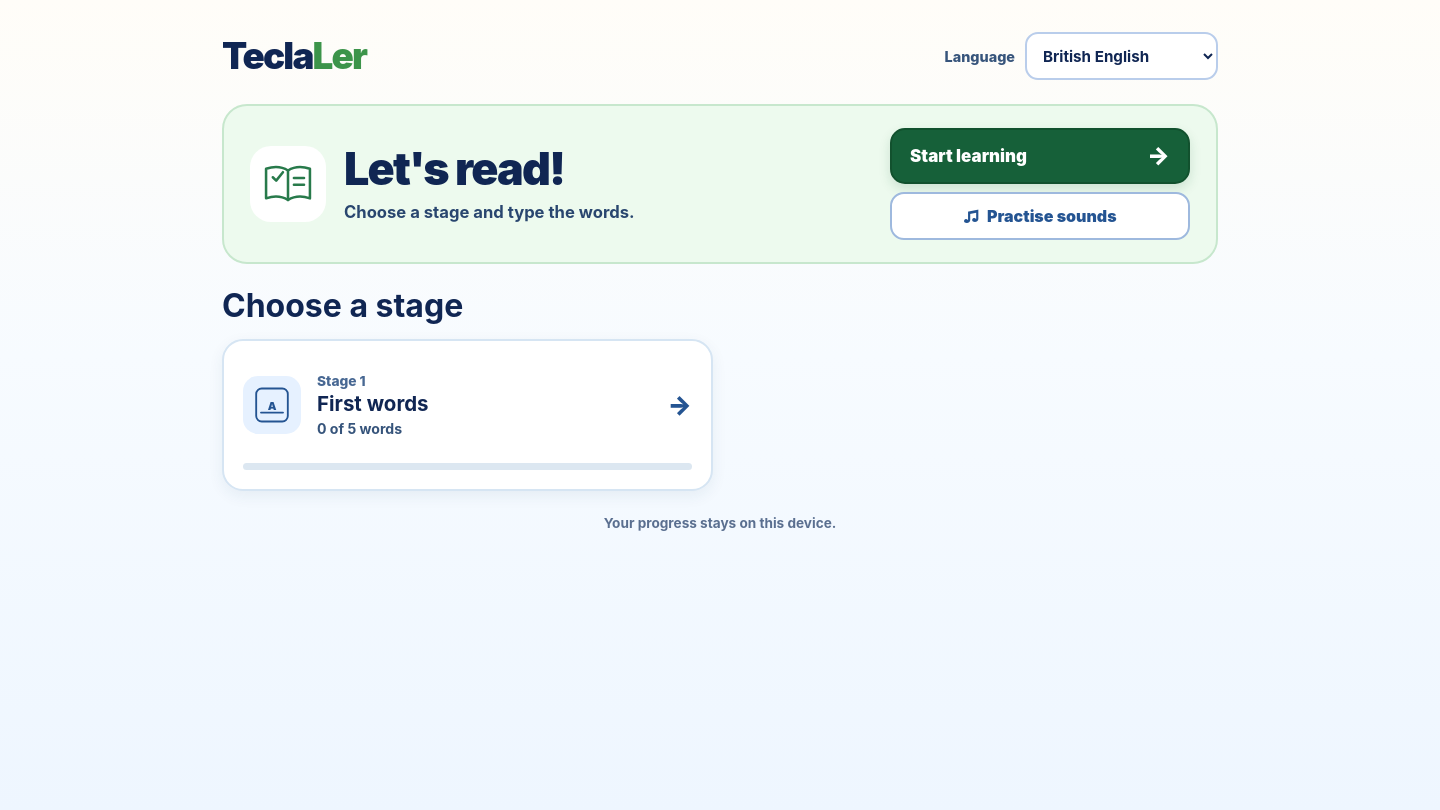
Scenario: dedicated phonics practice › also opens English one-part practice with English recordings
The width and height of the screenshot is (1440, 810).
Step 1. Click the button "♫ Practise sounds" → (1040, 216), box [890, 192, 1190, 240]
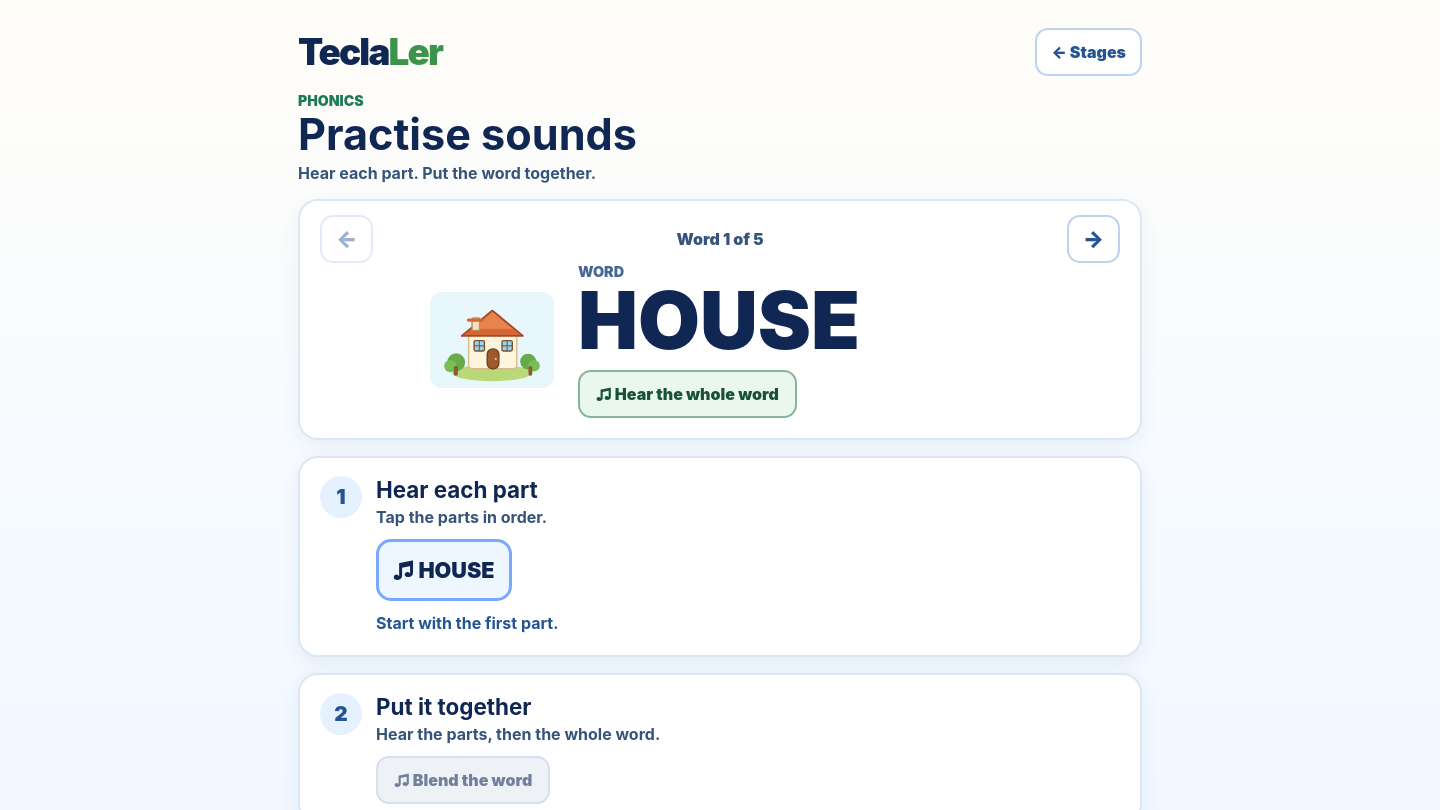
Result: the text named "Target word HOUSE" is shown at [578, 280, 860, 360]
Step 2. Click the button with aria-label "Hear part 1: house" → (444, 570), box [376, 538, 512, 600]
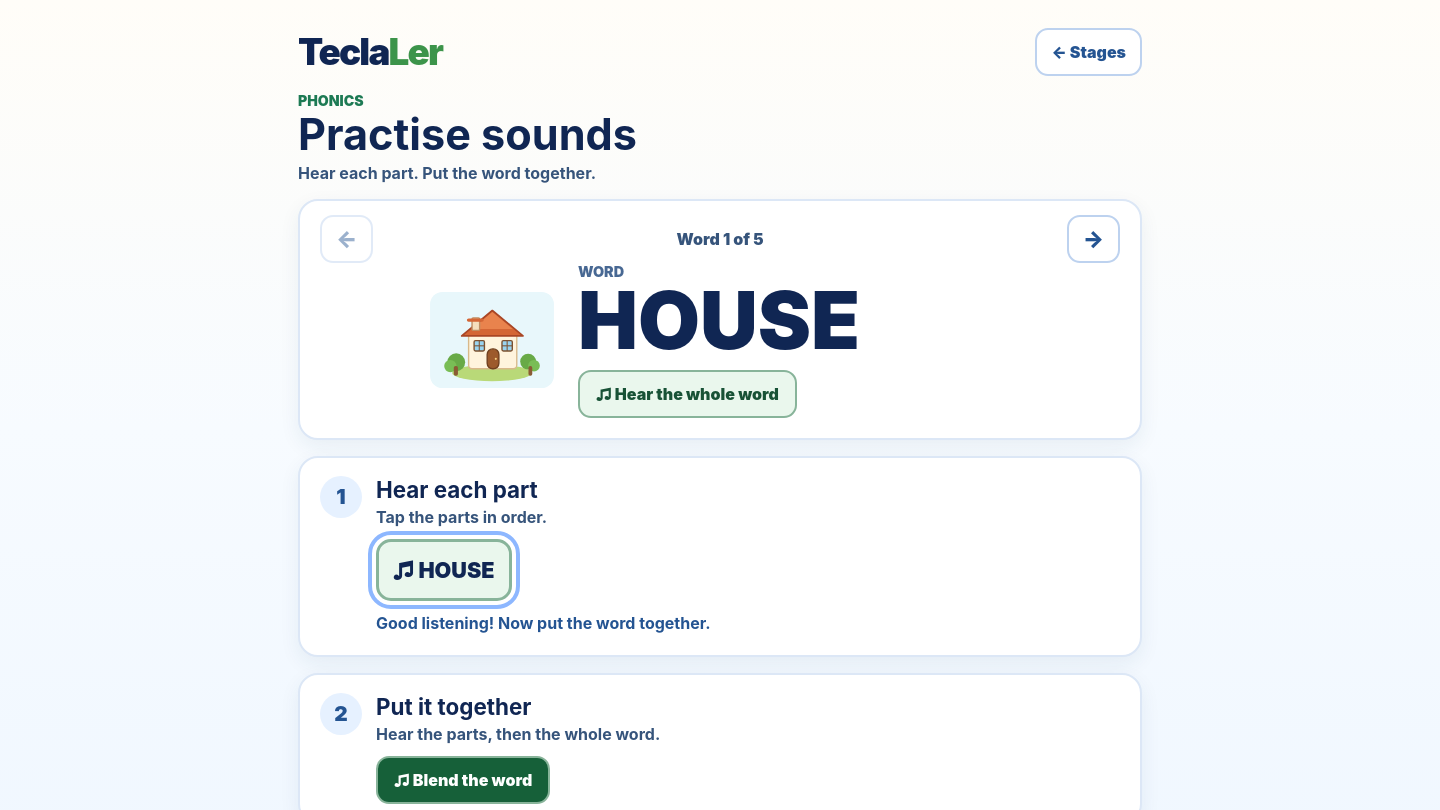
Step 3. Click the button "♫ Blend the word" → (463, 780), box [376, 756, 550, 804]
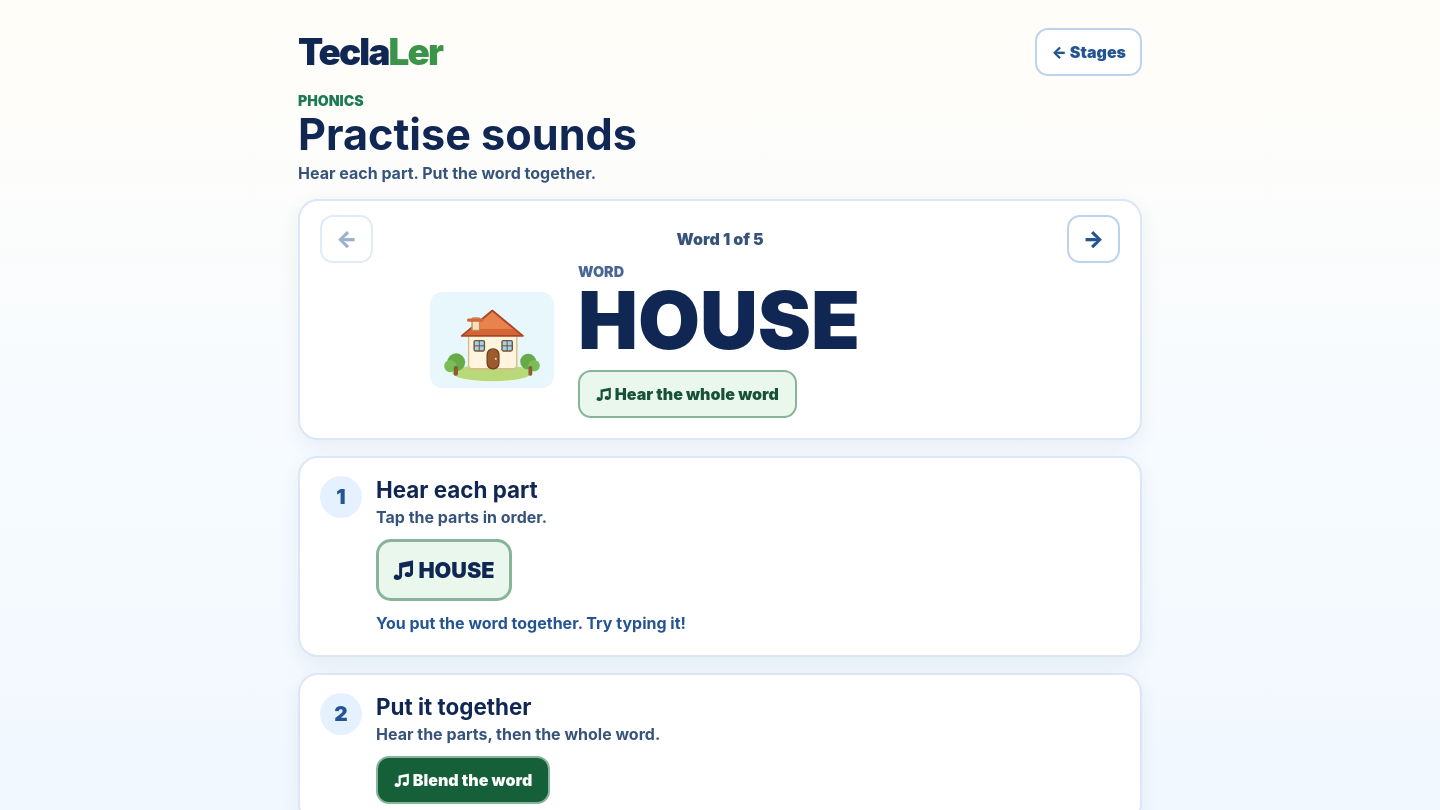
Result: the text "You put the word together. Try typing it!" is shown at [376, 612, 686, 632]
Step 4. Click the button named "Next phonics word" → (1093, 238), box [1067, 214, 1120, 262]
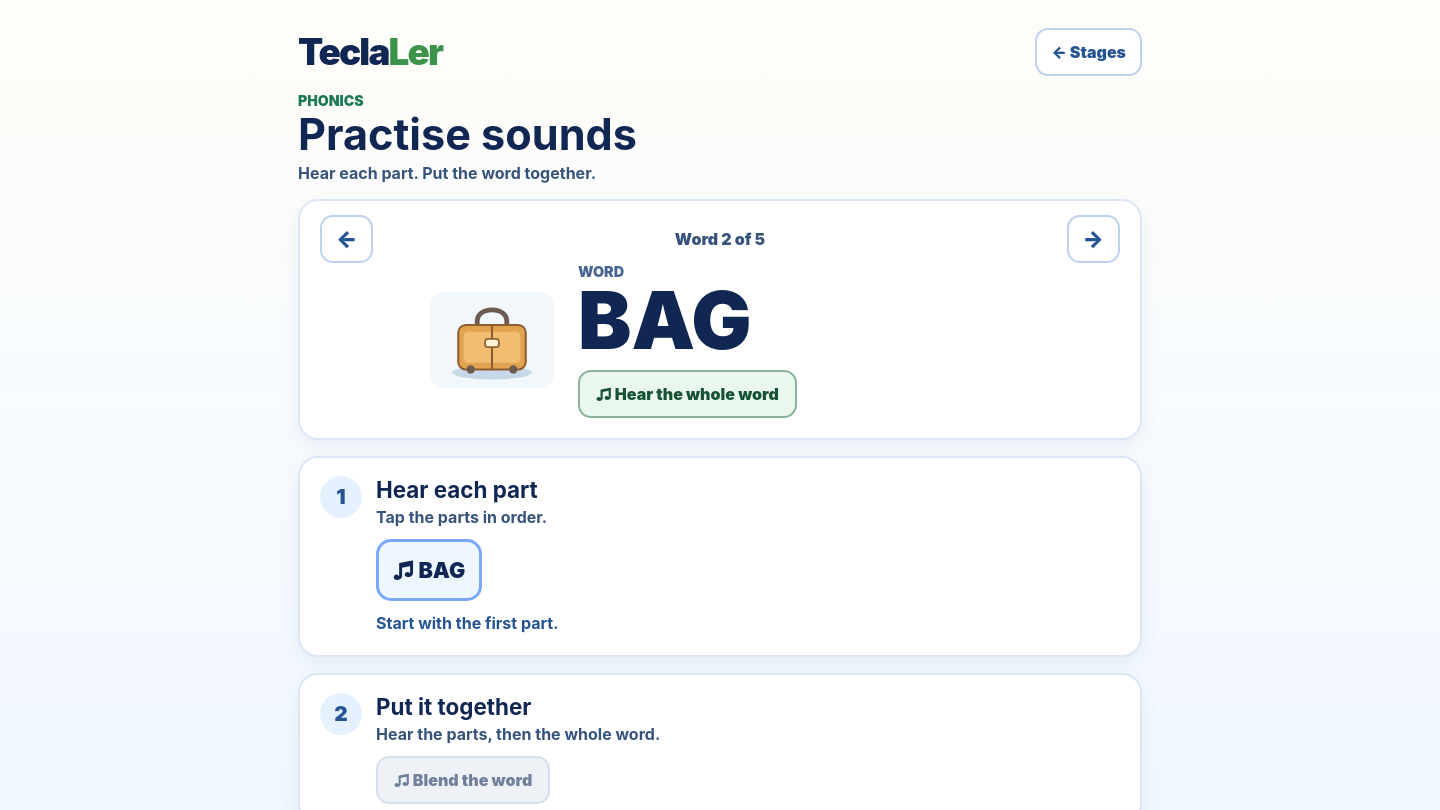
Result: the text named "Target word BAG" is shown at [578, 270, 752, 368]
